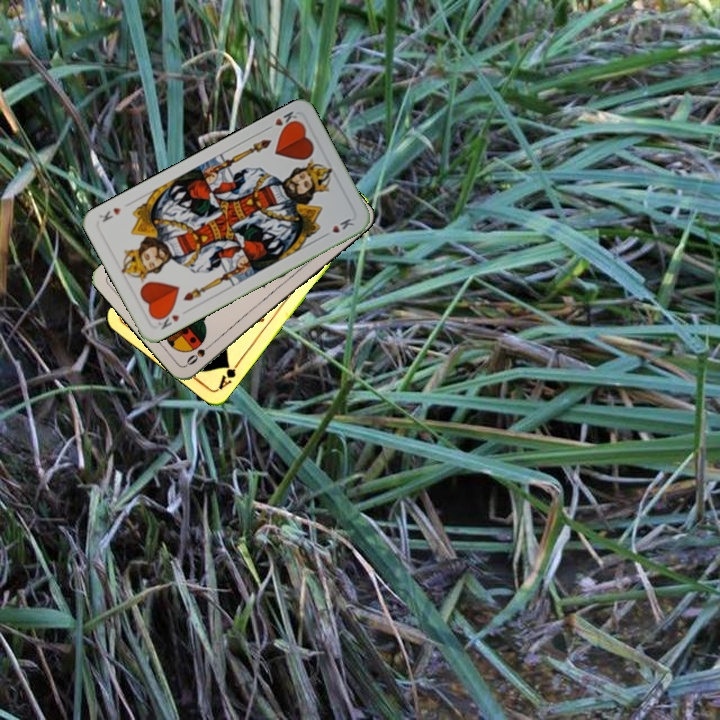GA: (214, 356, 243, 392)
HK: (261, 107, 302, 134), (153, 307, 182, 332)
SO: (182, 338, 217, 368)
